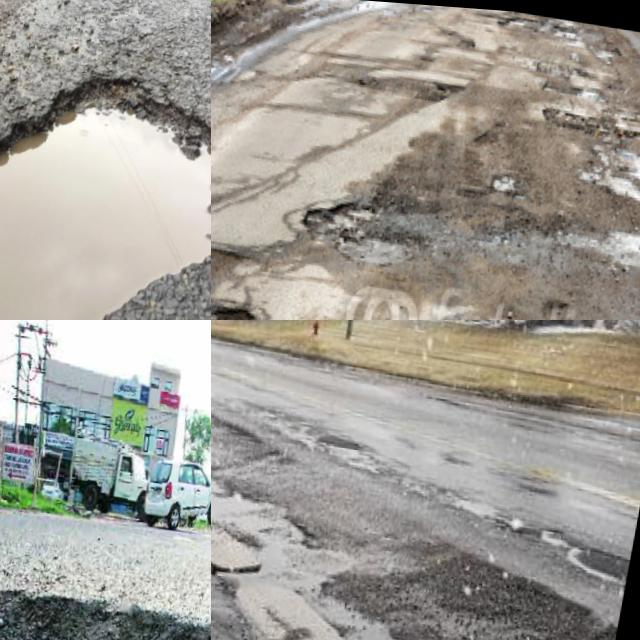Potholes: (0, 0, 211, 320), (211, 440, 348, 633), (298, 158, 446, 303), (241, 541, 441, 640), (0, 549, 211, 640), (317, 572, 581, 640), (565, 119, 640, 320), (446, 2, 640, 73), (467, 140, 558, 264), (211, 229, 314, 320), (533, 71, 618, 154)
